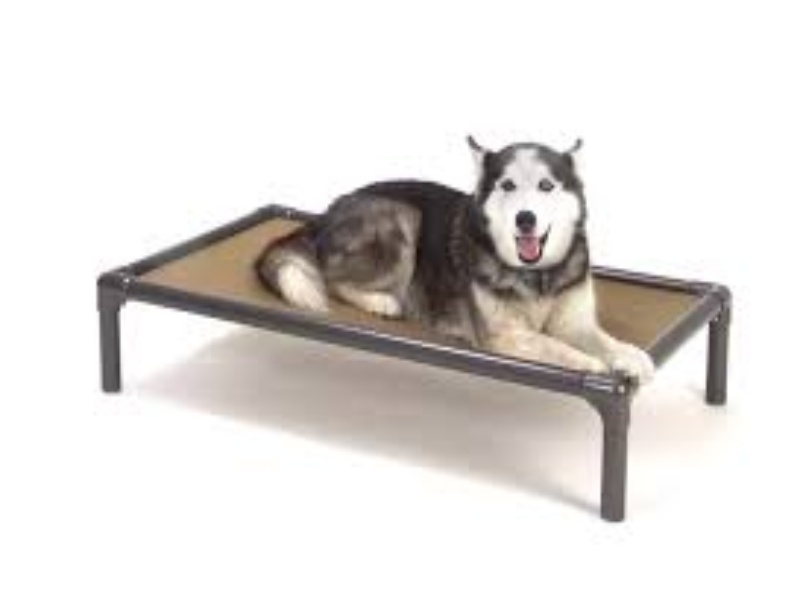dog: (253, 128, 664, 392)
